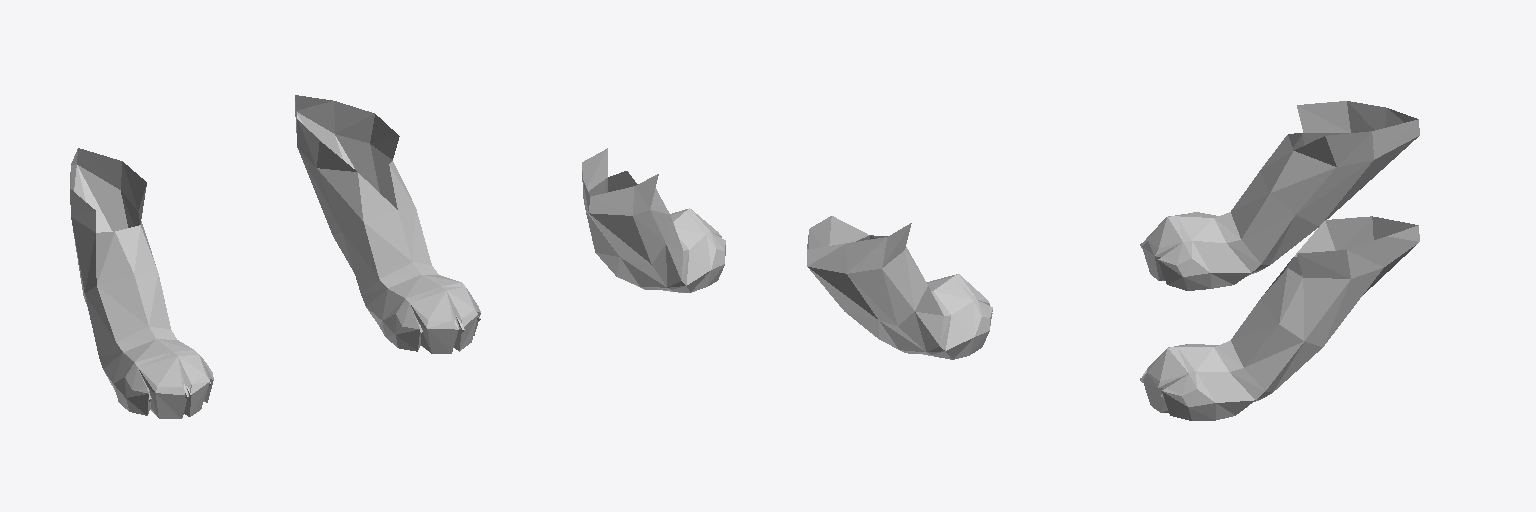
The model's file is rear_paws2.obj.
The picture shows the model from 3 angles: view 1: azimuth 30°, elevation 25°; view 2: azimuth 150°, elevation 25°; view 3: azimuth 270°, elevation 25°; orthographic projection.
Size of the model in its own units: 0.3346 by 0.1527 by 0.2305.